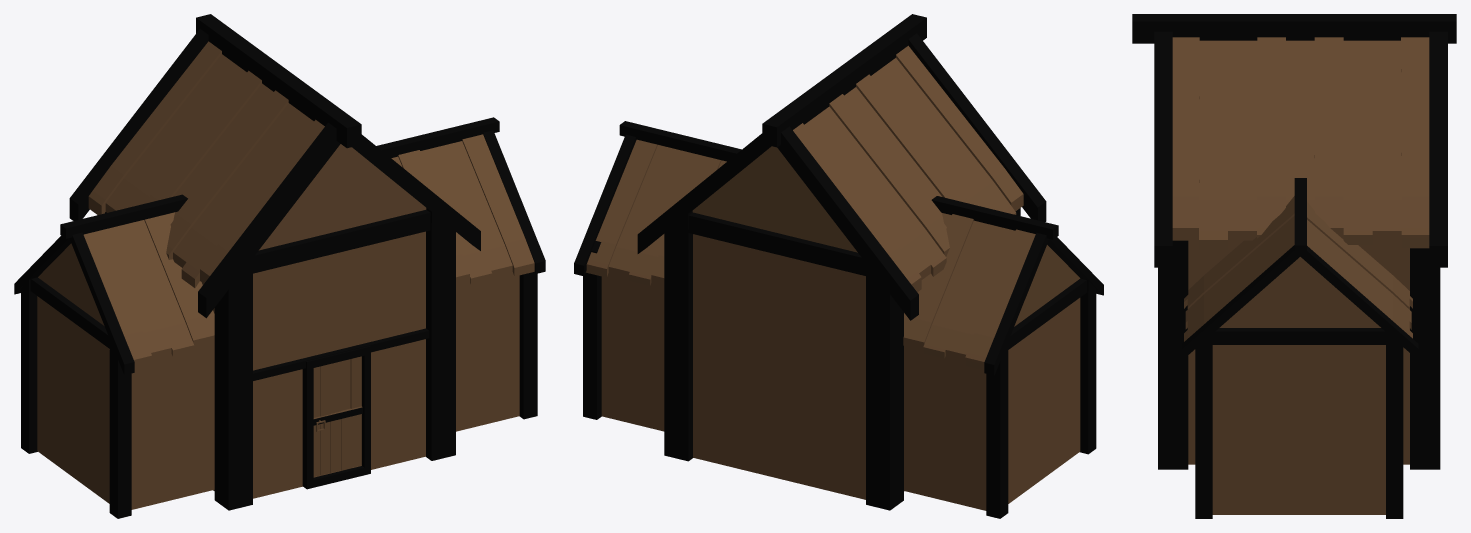
Rendered from 01_res_big_var2.fbx.
3 renders of one model, left to right at view 1: azimuth 30°, elevation 25°; view 2: azimuth 150°, elevation 25°; view 3: azimuth 270°, elevation 25°, orthographic. The views are drawn at different scales.
Parts seen in each view (by area): view 1: Cube.049; view 2: Cube.049; view 3: Cube.049.
Boxes of the visible parts, x1,y1,x2,y2 form: Cube.049: (14,14,545,518); Cube.049: (574,14,1103,518); Cube.049: (1132,14,1456,518).
Bounding box in the file's own units: 76.15 × 61.13 × 45.77.
